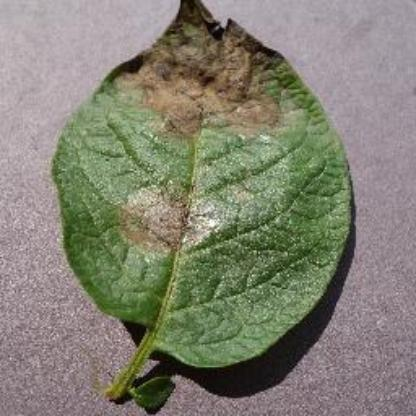Late-Blight: (48, 0, 357, 400)
